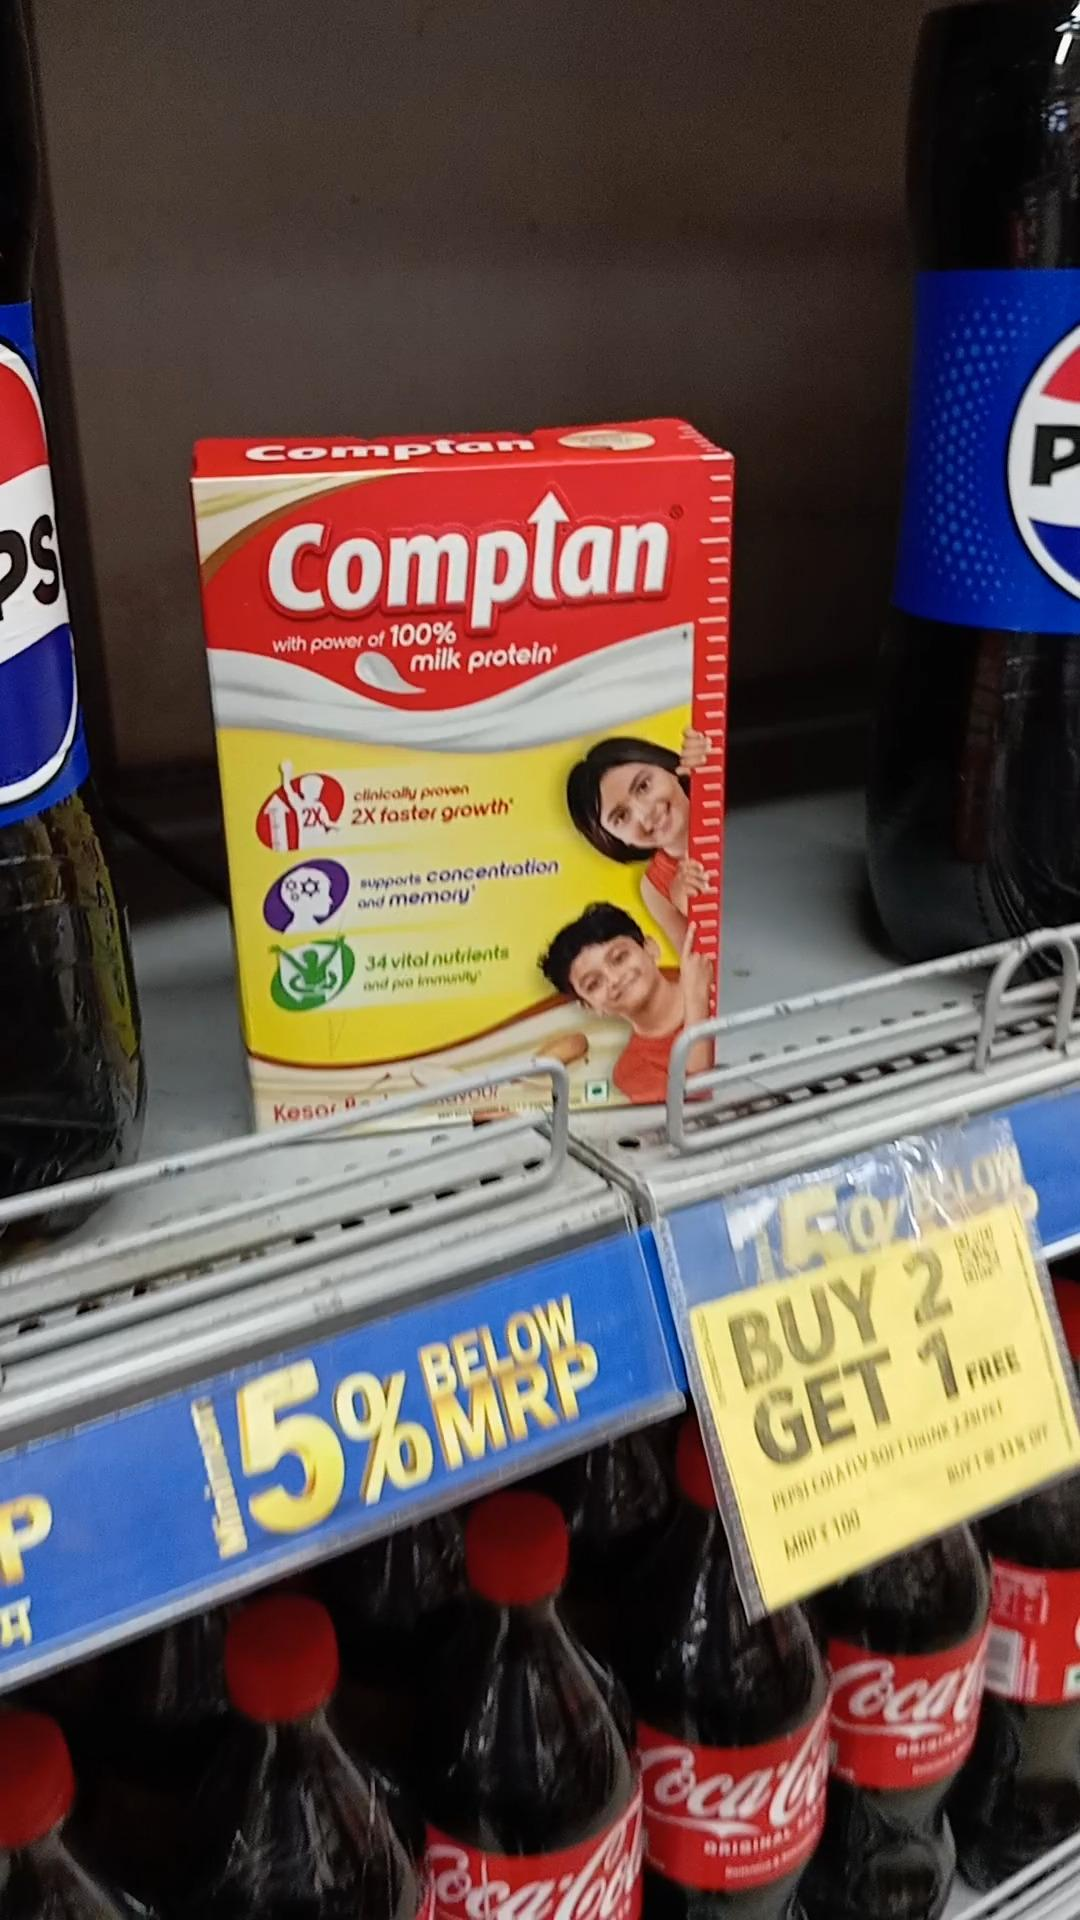COMPLAN_CHOCOLATE_200_GMS_JAR: (239, 472, 707, 1106)
